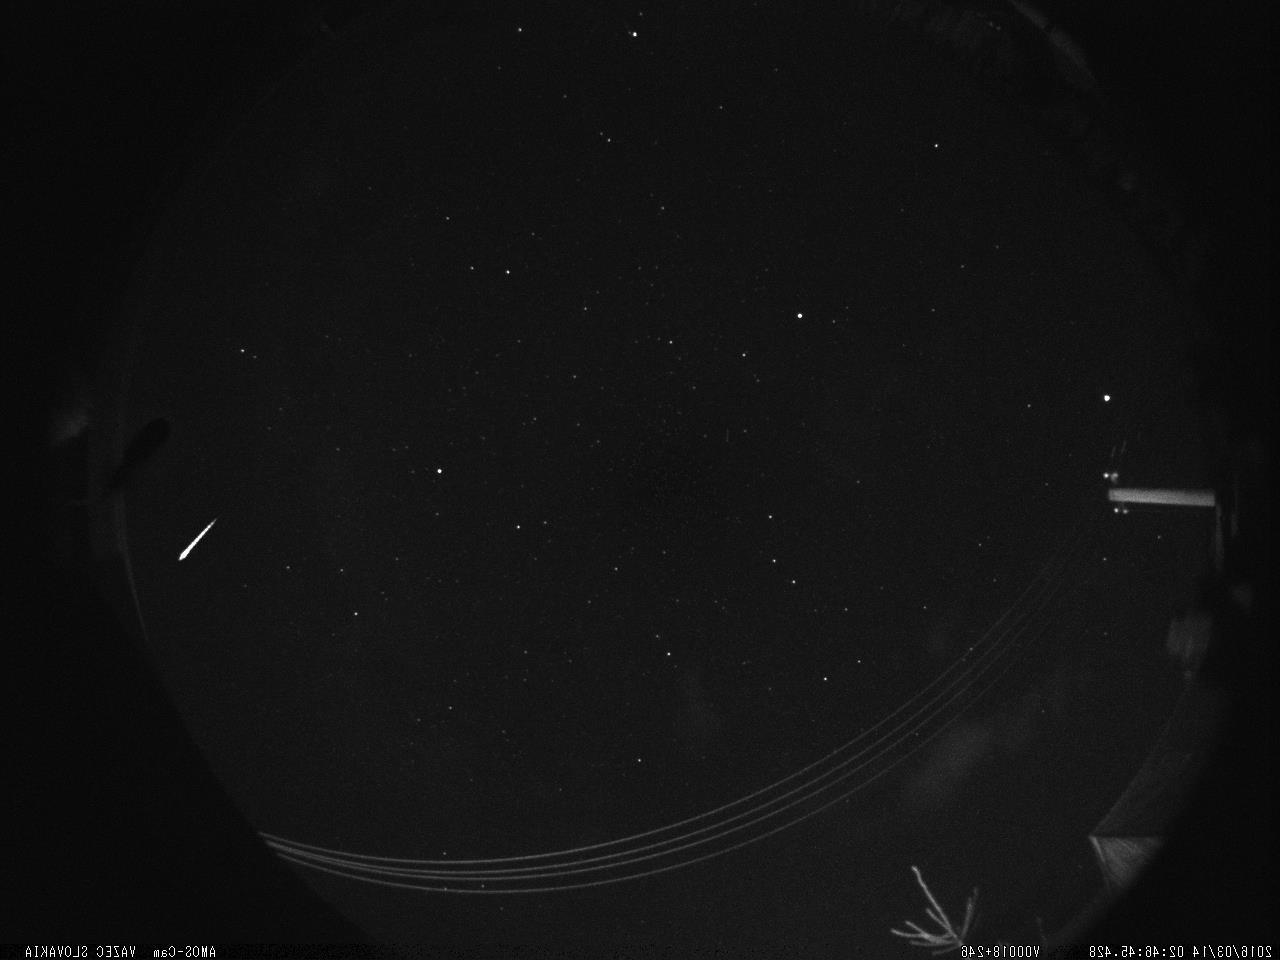meteor: (162, 511, 228, 576)
